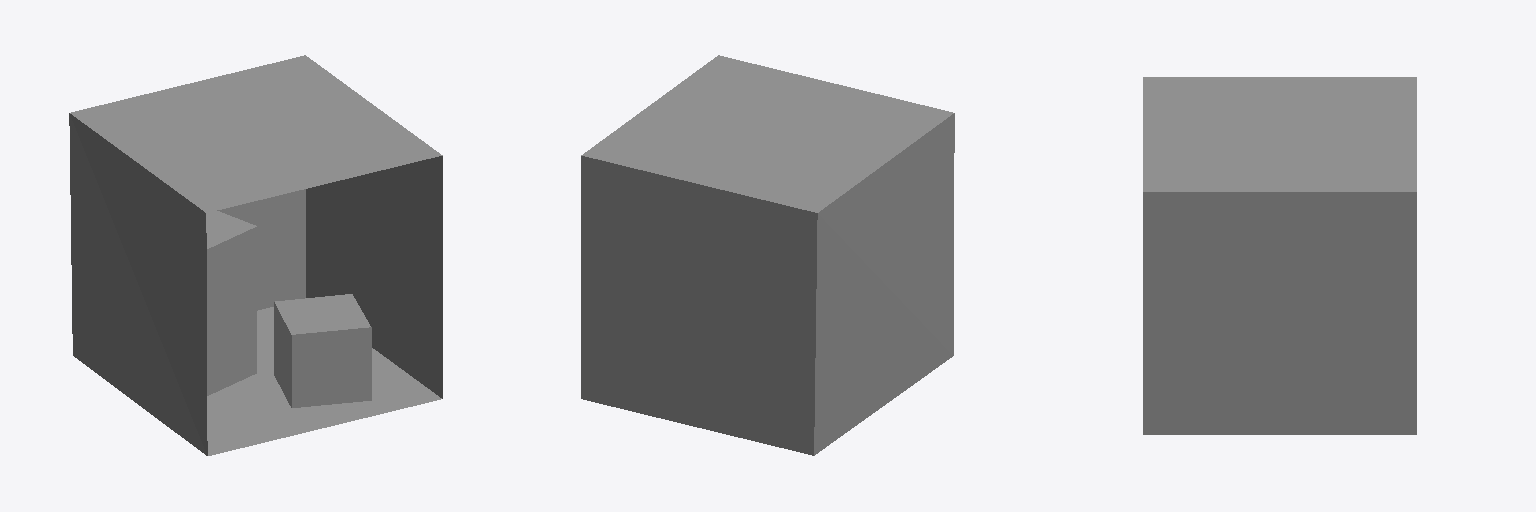
File: cornell.obj
The picture shows the model from 3 angles: view 1: azimuth 30°, elevation 25°; view 2: azimuth 150°, elevation 25°; view 3: azimuth 270°, elevation 25°; orthographic projection.
Bounding box in the file's own units: 2.02 × 1.99 × 2.03.